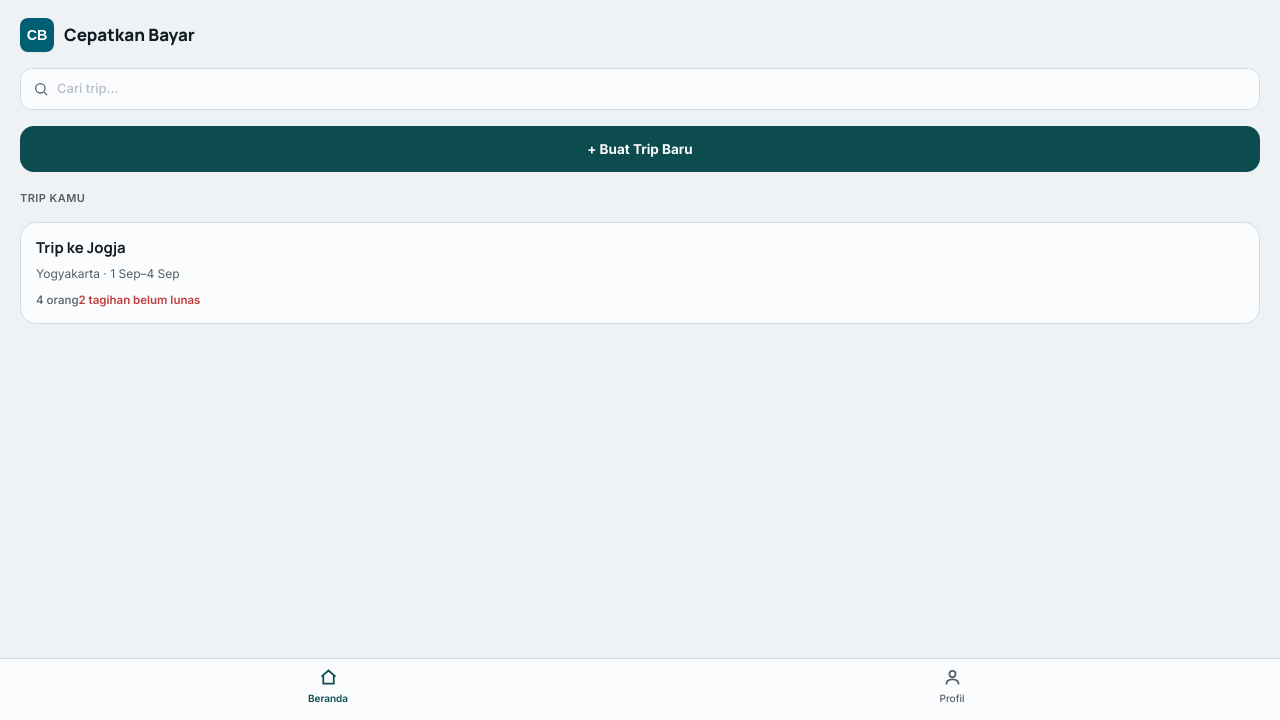
Test case: TripListScreen › filters trips by search query and shows the empty-result message
The image size is (1280, 720).
Expected: the text "Trip ke Jogja" is shown, left=36, top=237, right=126, bottom=260
In the field with placeholder "Cari trip…": [652, 89] box left=57, top=79, right=1247, bottom=98, type "bandung"
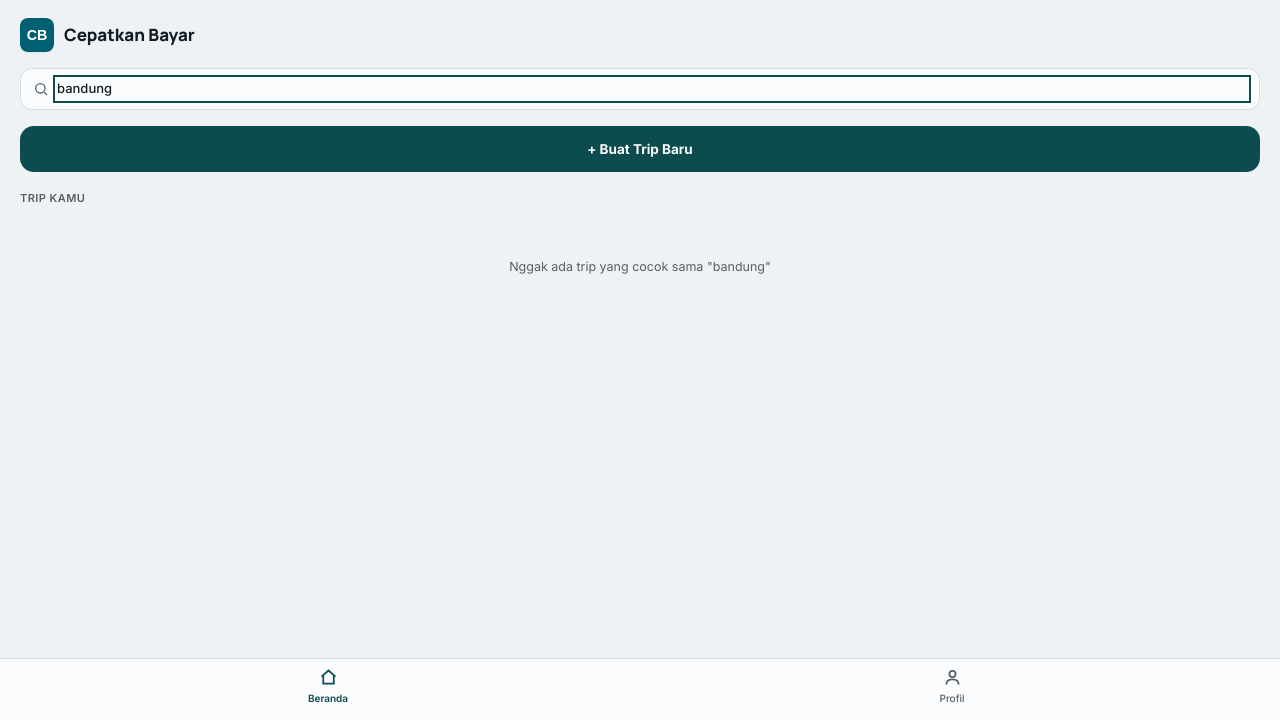
Expected: the button "Trip ke Jogja" is gone
Expected: the text "Nggak ada trip yang cocok sama \"bandung\"" is shown, left=509, top=259, right=771, bottom=274
